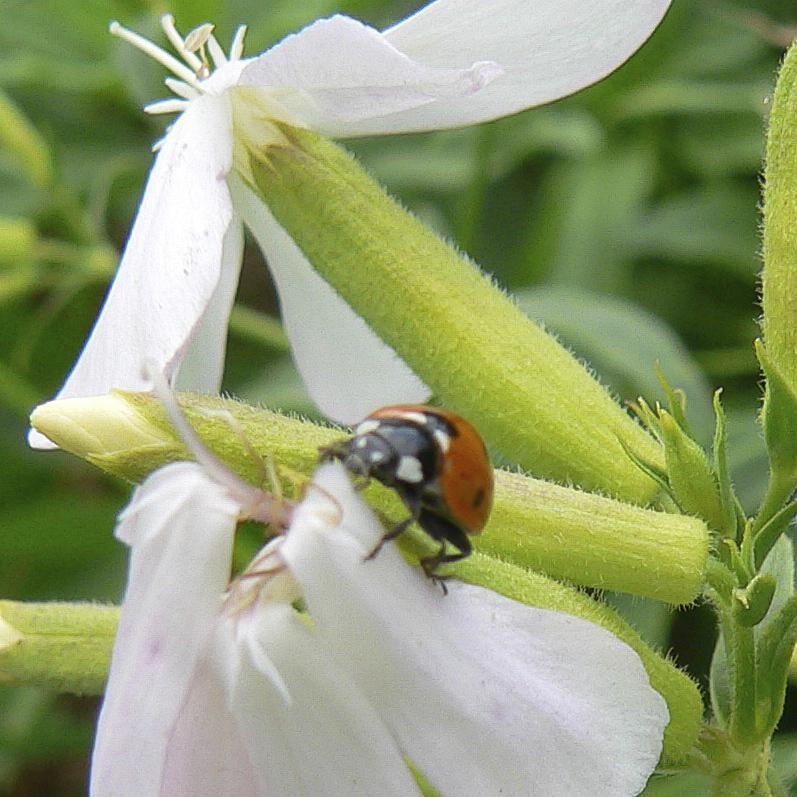ladybug: (317, 403, 499, 599)
